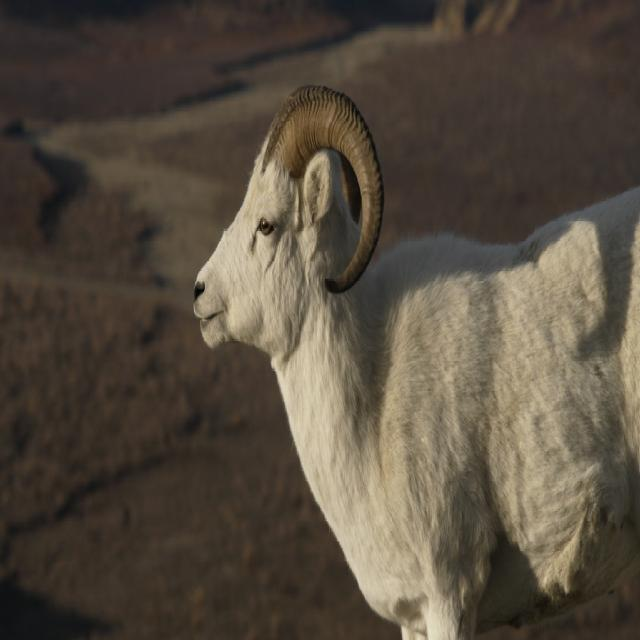Goat: (193, 87, 640, 639)
